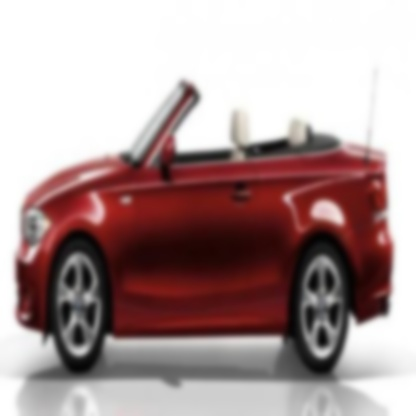Vehicle: (16, 72, 394, 378)
